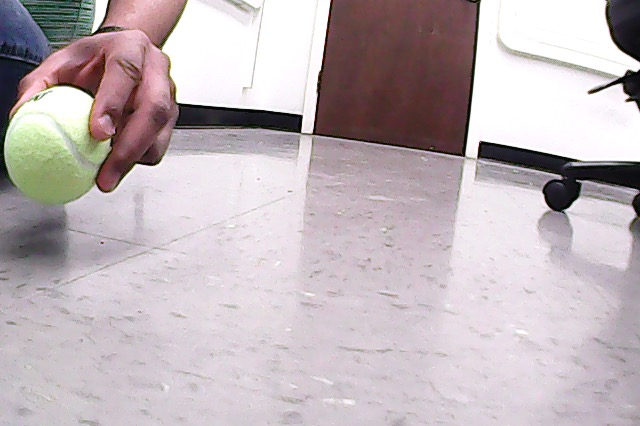ball: (5, 87, 112, 205)
